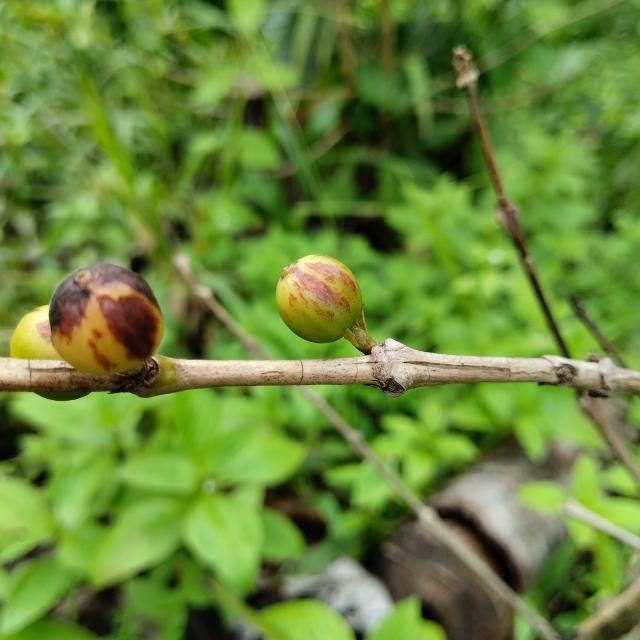green: (48, 263, 164, 375), (276, 255, 362, 343), (9, 305, 62, 360)
